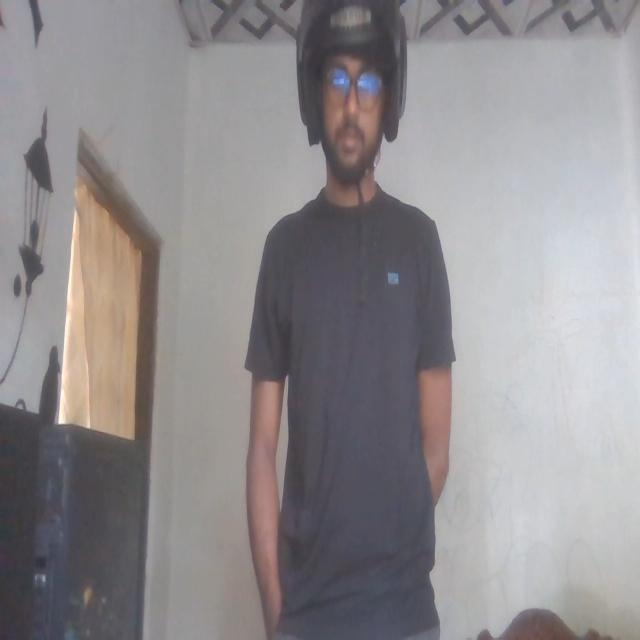Helmet_Wearer: (290, 0, 413, 208)
Person: (242, 0, 458, 640)
